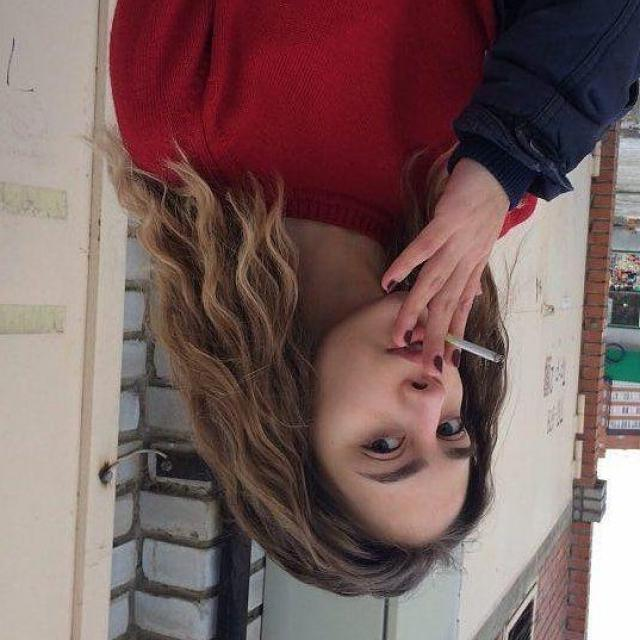cigarette: (424, 306, 534, 403)
